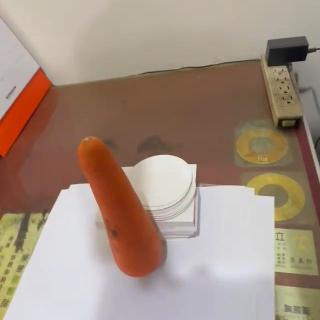carrot: (77, 134, 163, 280)
